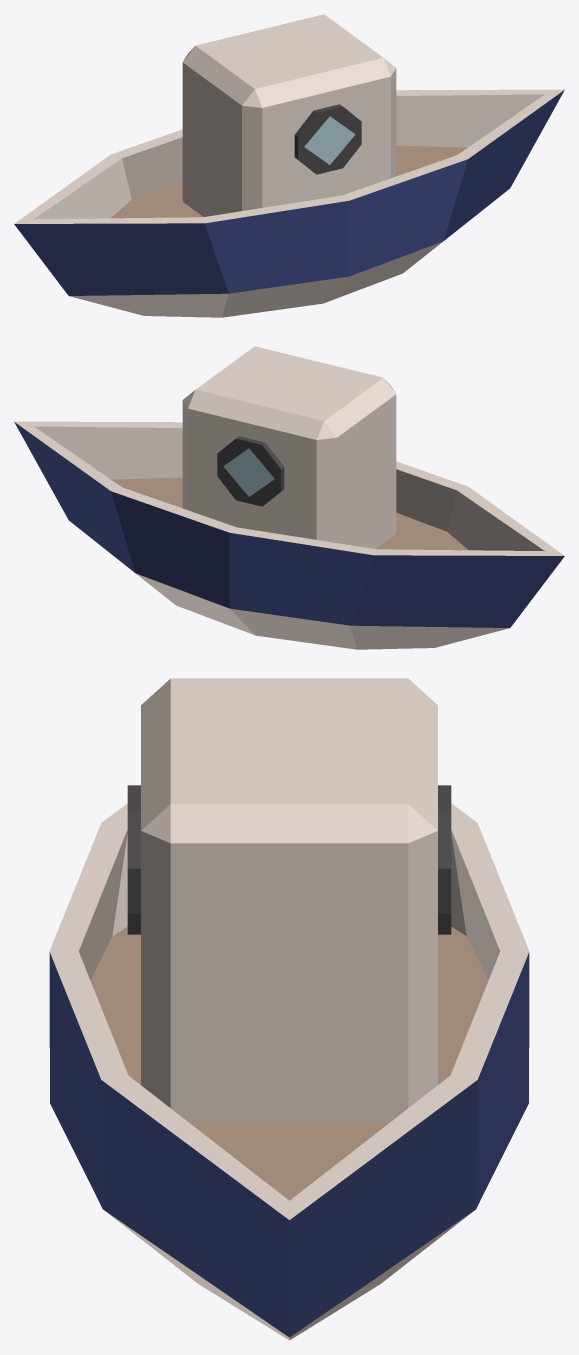
File: Toy_Boat_2.fbx
3 views of the same model, one above another, from view 1: azimuth 30°, elevation 25°; view 2: azimuth 150°, elevation 25°; view 3: azimuth 270°, elevation 25° (orthographic). The views are drawn at different scales.
Visible parts, largest first — view 1: Toy_Boat_2; view 2: Toy_Boat_2; view 3: Toy_Boat_2.
Boxes of the visible parts, x1,y1,x2,y2 form: Toy_Boat_2: (14, 14, 564, 317); Toy_Boat_2: (14, 346, 564, 649); Toy_Boat_2: (49, 678, 529, 1340).
Size of the model in its own units: 21.59 by 8.14 by 8.57.
